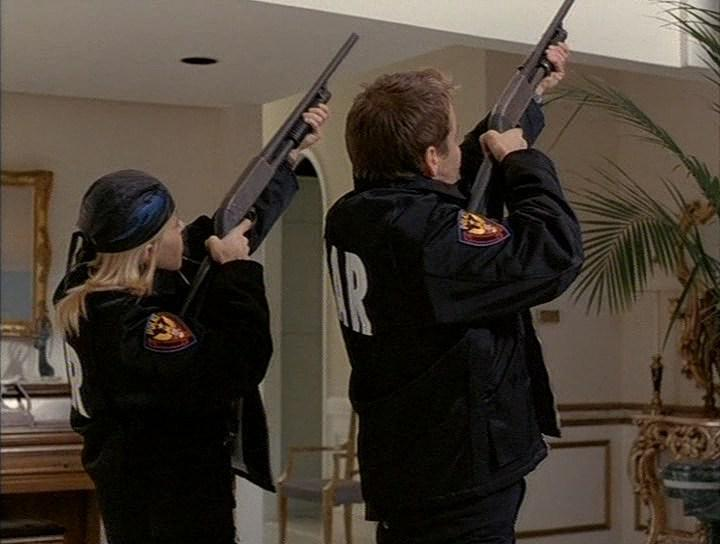gun: (160, 19, 366, 319), (480, 1, 591, 266)
